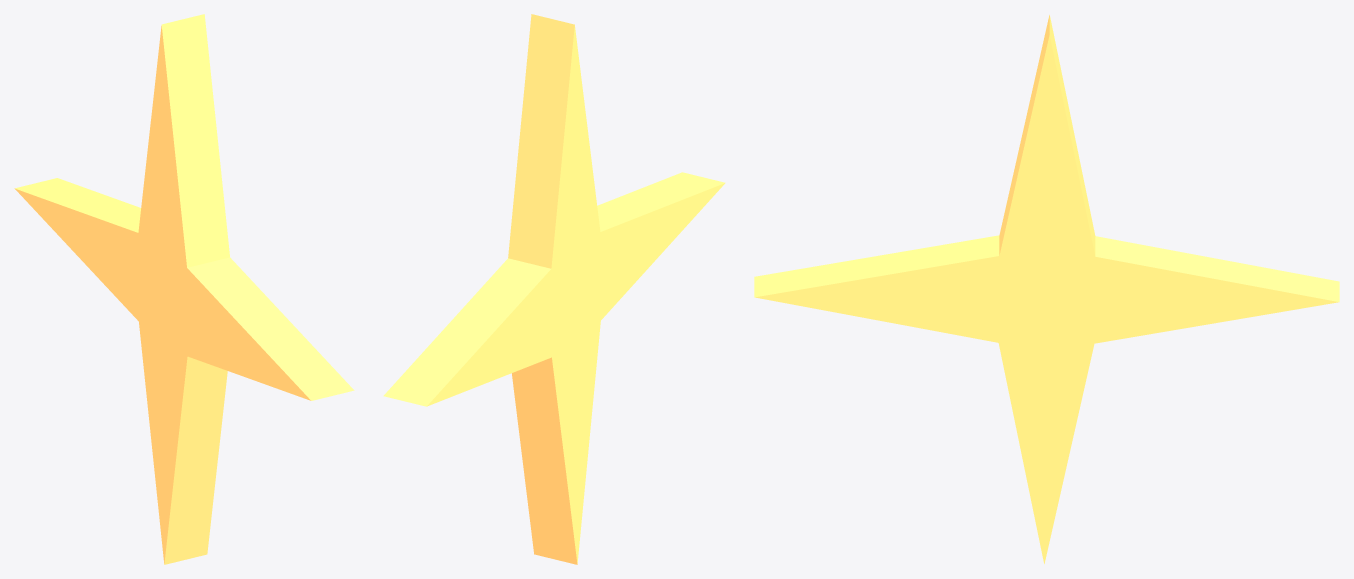
File: Star 2.fbx
3 views of the same model, side by side, from view 1: azimuth 30°, elevation 25°; view 2: azimuth 150°, elevation 25°; view 3: azimuth 270°, elevation 25° (orthographic). The views are drawn at different scales.
Visible parts, largest first — view 1: Plane.001; view 2: Plane.001; view 3: Plane.001.
Boxes of the visible parts, left/top/right/bottom form: Plane.001: left=14, top=14, right=354, bottom=564; Plane.001: left=383, top=14, right=725, bottom=564; Plane.001: left=754, top=15, right=1339, bottom=563.
Size of the model in its own units: 23.66 by 283 by 283.
